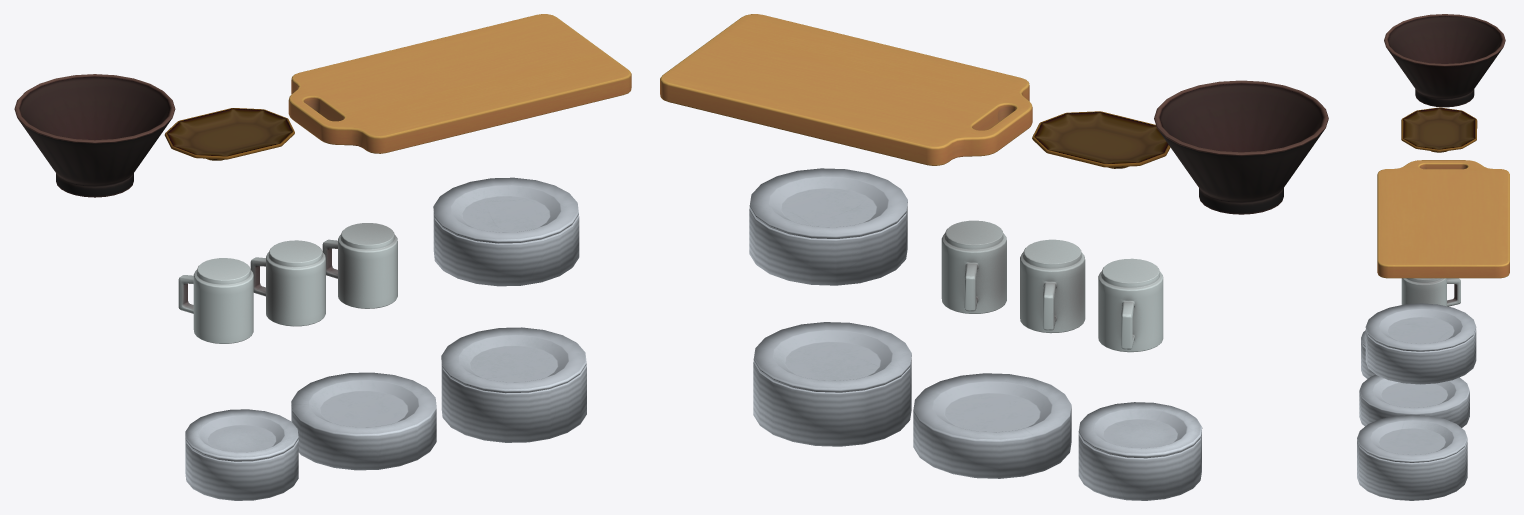
File: JapaneseRestaurant_KitchenProp.fbx
3 views of the same model, side by side, from view 1: azimuth 30°, elevation 25°; view 2: azimuth 150°, elevation 25°; view 3: azimuth 270°, elevation 25° (orthographic). The views are drawn at different scales.
Parts seen in each view (by area): view 1: JapaneseRestaurant_KitchenProp; view 2: JapaneseRestaurant_KitchenProp; view 3: JapaneseRestaurant_KitchenProp.
Boxes of the visible parts, bbox=[...] form: JapaneseRestaurant_KitchenProp: bbox=[14, 14, 631, 500]; JapaneseRestaurant_KitchenProp: bbox=[660, 14, 1328, 500]; JapaneseRestaurant_KitchenProp: bbox=[1357, 14, 1509, 500].
Bounding box in the file's own units: 91.81 × 61.27 × 28.32.
